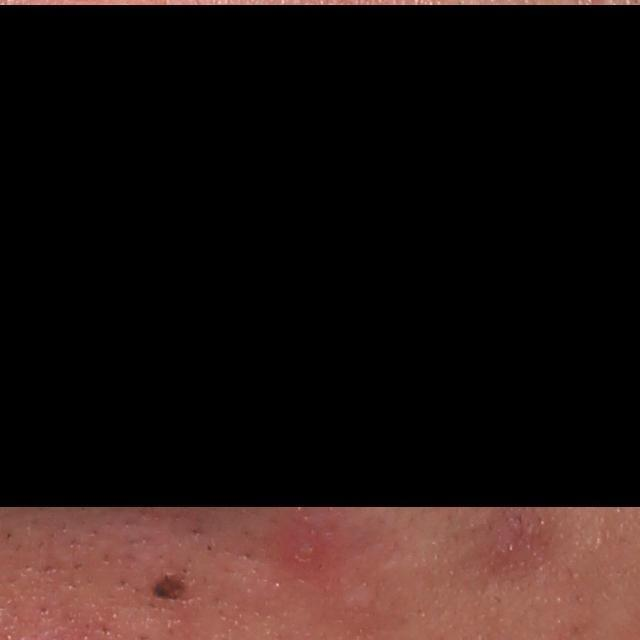nevus: (146, 560, 195, 610)
